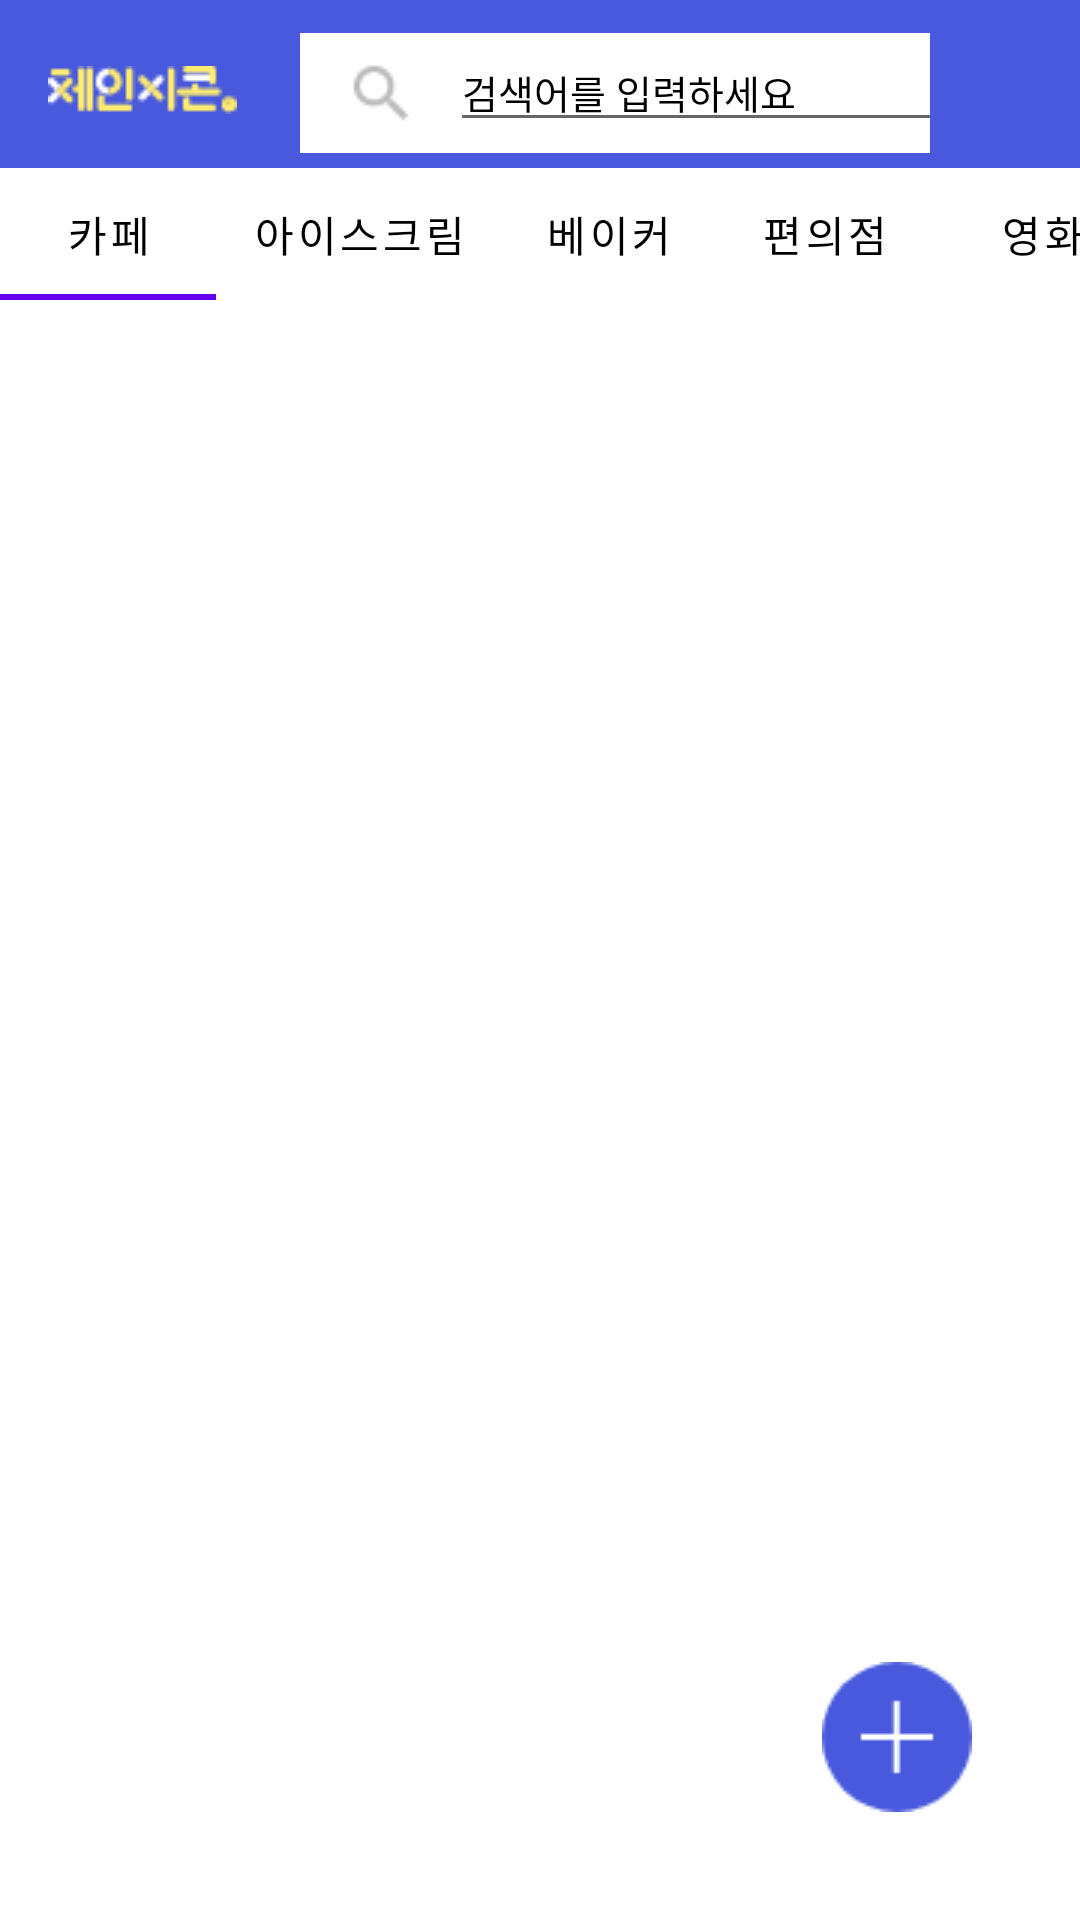

Icons on this 1080 × 1920 Android screen, each with its box as box=[x1, y1, x2, y2]:
plus: box=[822, 1662, 972, 1812]
search: box=[354, 66, 408, 120]
